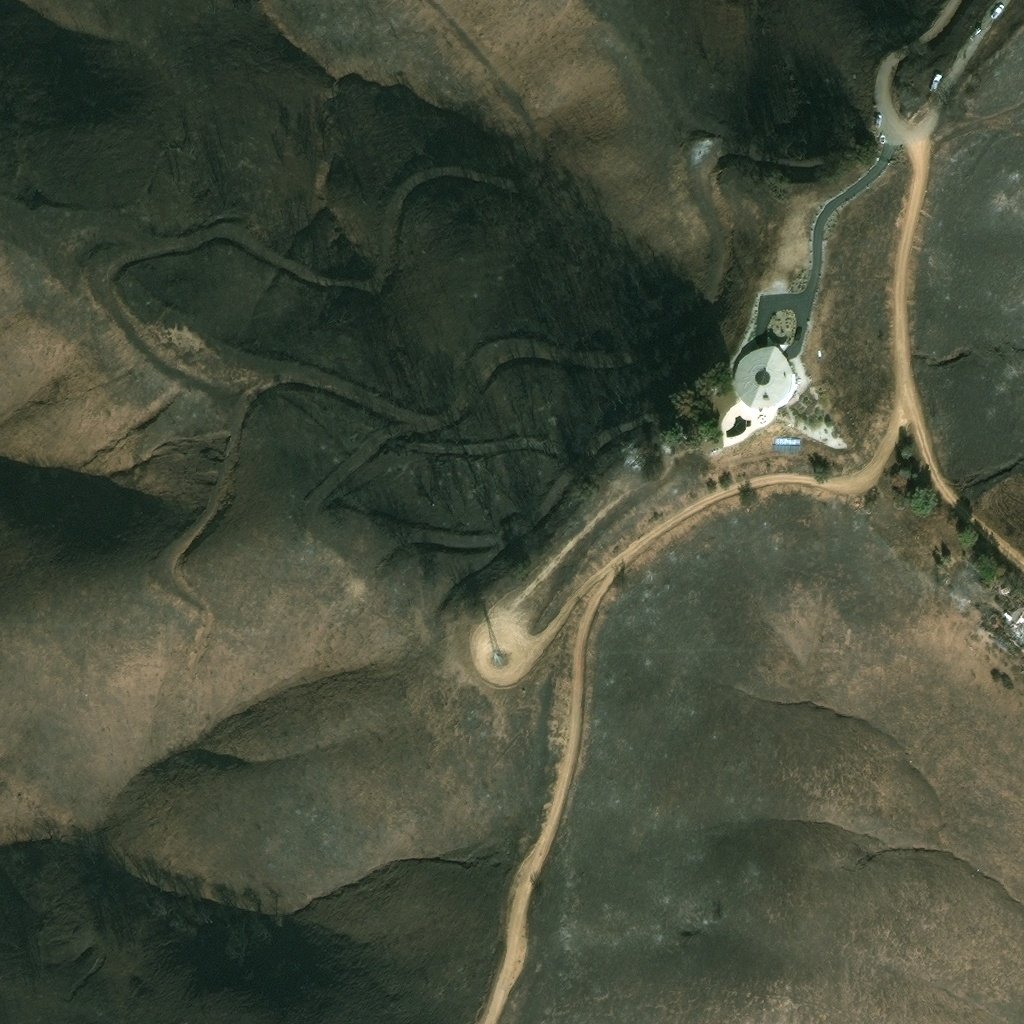0 no-damage: (732, 343, 791, 411), (1004, 612, 1023, 648), (771, 437, 800, 452)
3 destroyed: (627, 452, 644, 469), (763, 285, 774, 291)
